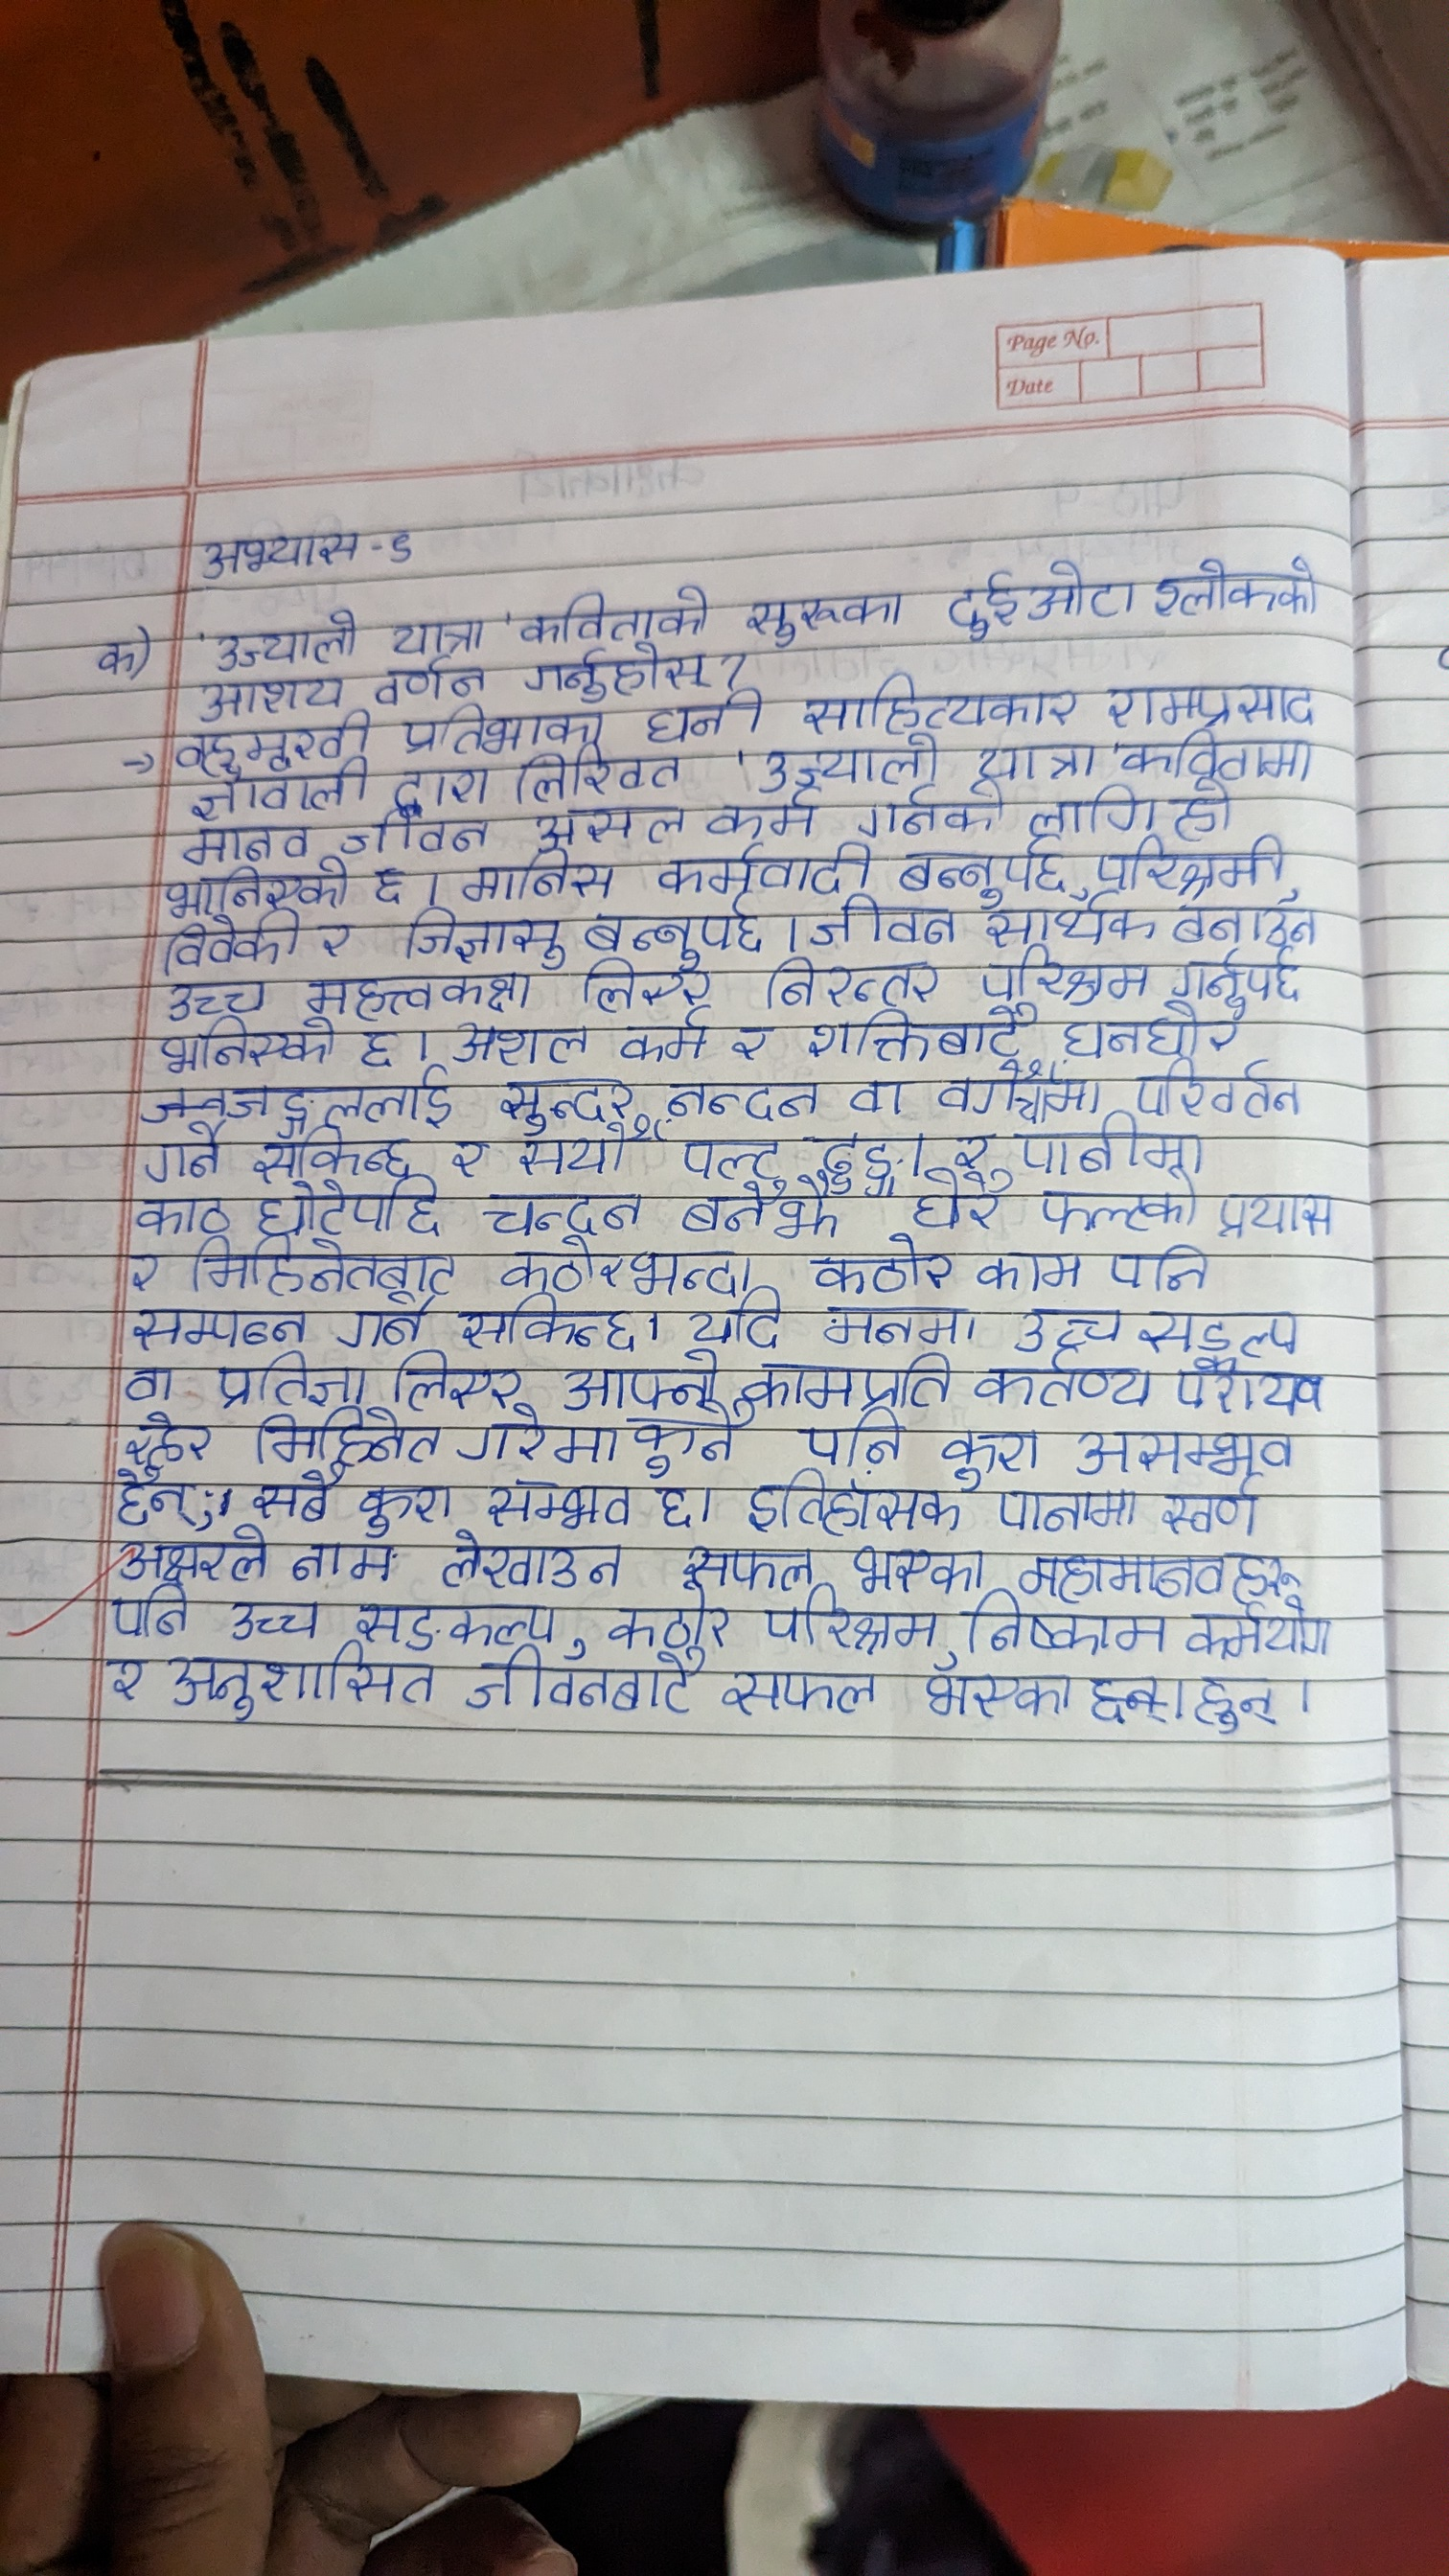text: (163, 1651, 437, 1720), (938, 554, 1141, 639), (794, 669, 1072, 729), (465, 1656, 704, 1723), (1019, 1539, 1302, 1596), (1148, 547, 1320, 625), (497, 1240, 752, 1292), (188, 1244, 455, 1292), (803, 1008, 1044, 1060), (731, 1483, 957, 1536), (754, 1594, 939, 1658), (515, 579, 711, 639), (1099, 676, 1318, 729), (248, 1408, 446, 1467), (225, 1076, 453, 1125), (147, 1019, 343, 1076), (350, 1594, 559, 1647), (182, 520, 366, 580), (1069, 1424, 1299, 1470), (435, 1534, 628, 1589), (962, 1605, 1175, 1654), (1014, 1120, 1205, 1175), (1115, 731, 1309, 784), (255, 1182, 442, 1237), (582, 904, 757, 962), (524, 642, 715, 695), (166, 717, 377, 764), (1053, 1005, 1246, 1056), (456, 1295, 630, 1352), (1146, 1307, 1315, 1366), (1187, 1603, 1345, 1665), (745, 1357, 948, 1405), (971, 1353, 1139, 1410), (980, 947, 1146, 1003), (306, 971, 527, 1014), (152, 865, 356, 911), (1033, 1178, 1198, 1235), (718, 1665, 883, 1721), (938, 1063, 1106, 1118), (740, 586, 902, 642), (202, 603, 359, 662), (1086, 840, 1284, 886), (113, 1529, 274, 1585), (658, 849, 870, 892), (895, 839, 1065, 892), (814, 1297, 984, 1350), (122, 1302, 315, 1348), (483, 1470, 630, 1530), (1136, 1065, 1302, 1118), (402, 911, 566, 964), (395, 706, 605, 747), (1171, 893, 1322, 950), (462, 1408, 616, 1463), (1215, 1178, 1339, 1246), (182, 768, 370, 812), (658, 1070, 824, 1120), (681, 1182, 824, 1238), (515, 1131, 669, 1182), (216, 1353, 370, 1405), (766, 959, 938, 1005), (561, 1355, 720, 1405), (159, 913, 297, 970), (985, 893, 1155, 939), (251, 1129, 409, 1178), (807, 899, 954, 952), (759, 743, 941, 786), (1169, 1371, 1329, 1419), (508, 754, 685, 796), (460, 856, 623, 902), (479, 1189, 642, 1235), (858, 789, 1008, 837), (492, 1076, 635, 1125), (938, 1419, 1049, 1481), (610, 1592, 731, 1649), (993, 1486, 1139, 1532), (913, 1672, 1077, 1713), (527, 803, 685, 846), (389, 1353, 518, 1405), (453, 1017, 584, 1067), (633, 1412, 745, 1468), (812, 1244, 948, 1290), (577, 964, 718, 1008), (798, 1408, 904, 1467), (1173, 955, 1307, 1001), (193, 672, 350, 711), (676, 1545, 817, 1587), (1030, 786, 1155, 833), (851, 1546, 980, 1592), (1161, 1477, 1260, 1536), (823, 1129, 909, 1194), (338, 817, 497, 853), (373, 658, 495, 704), (642, 699, 770, 741), (170, 823, 313, 860), (704, 787, 819, 833), (288, 1536, 395, 1585), (131, 1127, 226, 1182), (120, 1408, 216, 1463), (1192, 1672, 1274, 1736), (1102, 1244, 1207, 1293), (389, 757, 488, 809), (683, 1295, 789, 1343), (104, 1468, 193, 1525), (915, 1175, 1000, 1233), (982, 1247, 1085, 1295), (971, 740, 1090, 780), (338, 1297, 435, 1346), (382, 605, 483, 653), (350, 1481, 455, 1527), (1010, 1304, 1118, 1348), (156, 977, 274, 1016), (681, 1132, 780, 1178), (101, 1587, 200, 1633), (248, 1470, 334, 1522), (223, 1596, 327, 1638), (619, 1016, 708, 1060), (1169, 784, 1237, 839), (127, 1194, 232, 1228), (97, 623, 147, 683), (101, 1651, 149, 1702), (119, 1361, 179, 1401), (847, 1076, 906, 1115), (651, 1483, 697, 1527), (384, 520, 425, 570), (446, 1136, 488, 1182), (359, 1026, 398, 1067), (948, 1131, 991, 1168), (313, 916, 352, 955), (127, 1247, 166, 1286), (372, 862, 405, 906), (731, 1017, 768, 1056)
